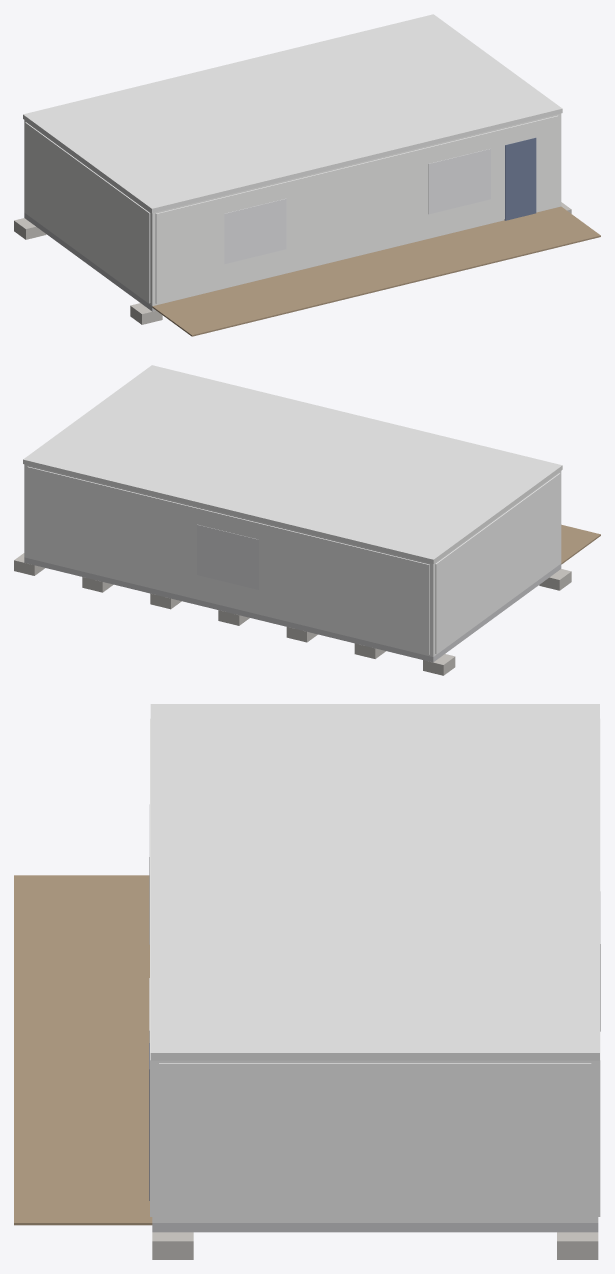
Rendered from Studio-40-Premium+TerraceDeck-LOD2.glb.
The picture shows the model from 3 angles, top to bottom: view 1: azimuth 30°, elevation 25°; view 2: azimuth 150°, elevation 25°; view 3: azimuth 270°, elevation 25°; orthographic projection. The views are drawn at different scales.
Parts seen in each view (by area): view 1: RoofMain, ExteriorPanelsPremium, TerraceDeck, WindowsLargeUpgrade, ExteriorShell, EntryDoor, FoundationBlocks, BaseFrame; view 2: RoofMain, ExteriorPanelsPremium, BaseFrame, WindowsLargeUpgrade, ExteriorShell, FoundationBlocks, TerraceDeck; view 3: RoofMain, ExteriorPanelsPremium, TerraceDeck, ExteriorShell, BaseFrame, FoundationBlocks.
Boxes of the visible parts, x1,y1,x2,y2 form: RoofMain: (23,14,562,212); ExteriorPanelsPremium: (25,115,558,303); TerraceDeck: (152,206,600,336); WindowsLargeUpgrade: (224,149,490,264); ExteriorShell: (24,113,561,305); EntryDoor: (504,137,536,220); FoundationBlocks: (14,202,571,324); BaseFrame: (24,213,155,311); RoofMain: (23,365,562,563); ExteriorPanelsPremium: (27,466,560,654); BaseFrame: (24,557,561,662); WindowsLargeUpgrade: (197,524,258,589); ExteriorShell: (24,464,561,656); FoundationBlocks: (14,553,571,675); TerraceDeck: (561,524,600,564); RoofMain: (150,704,599,1060); ExteriorPanelsPremium: (150,718,600,1220); TerraceDeck: (14,875,152,1225); ExteriorShell: (152,1060,598,1222); BaseFrame: (152,1223,598,1232); FoundationBlocks: (152,1232,598,1259).
Size of the model in its own units: 12.49 by 3.17 by 8.49.
